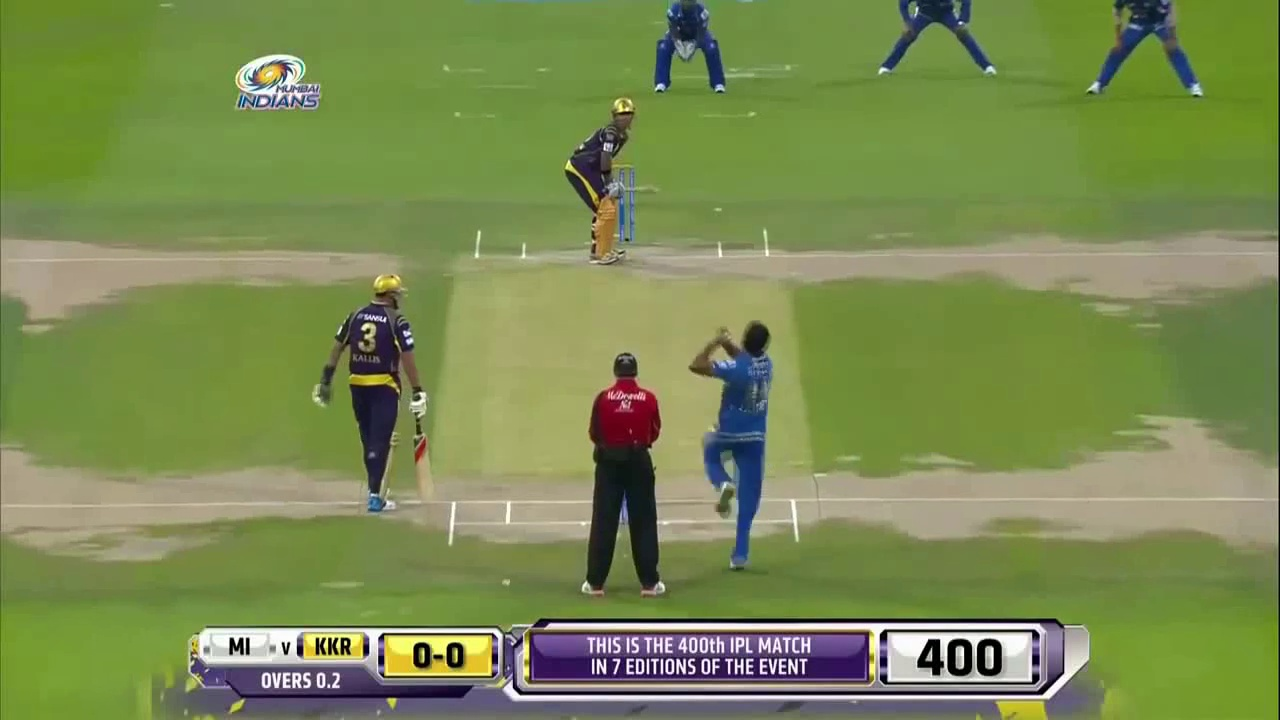bat: (411, 421, 435, 503)
